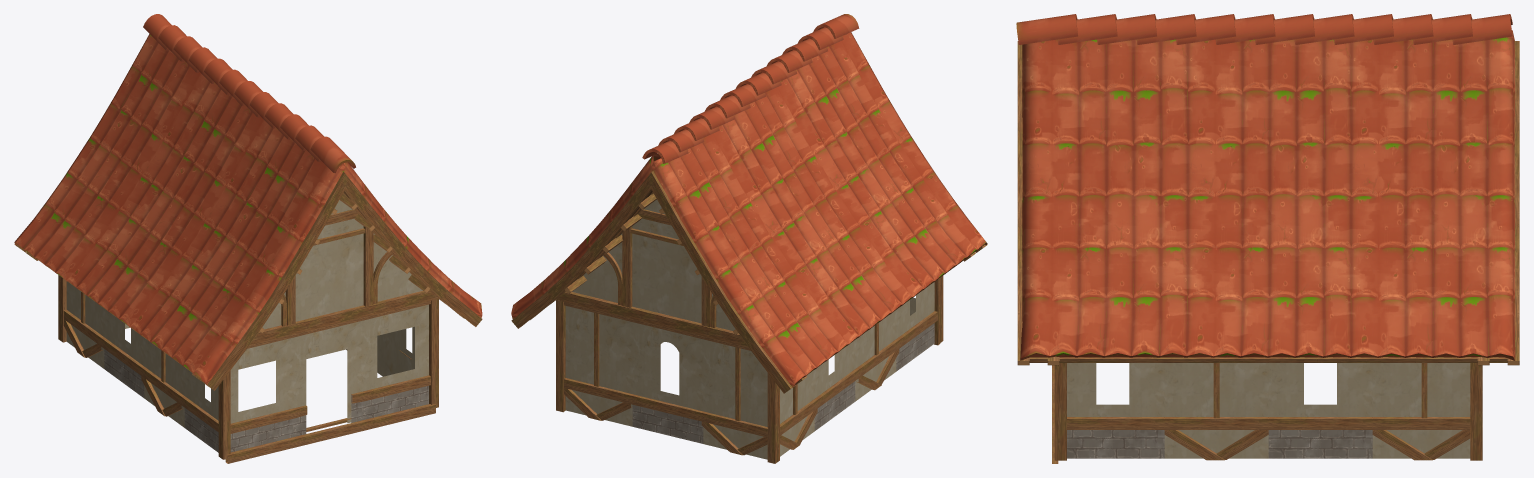
Rendered from house_a_out.gltf.
The picture shows the model from 3 angles, left to right: view 1: azimuth 30°, elevation 25°; view 2: azimuth 150°, elevation 25°; view 3: azimuth 270°, elevation 25°; orthographic projection. The views are drawn at different scales.
Visible parts, largest first — view 1: house_a_out; view 2: house_a_out; view 3: house_a_out.
Part boxes in pixels (<box>): house_a_out: <box>14,14,482,463</box>; house_a_out: <box>511,14,987,463</box>; house_a_out: <box>1016,14,1519,463</box>.
Bounding box in the file's own units: 8.25 × 8.13 × 9.68.
Materials: 5 (5 with a texture image).
